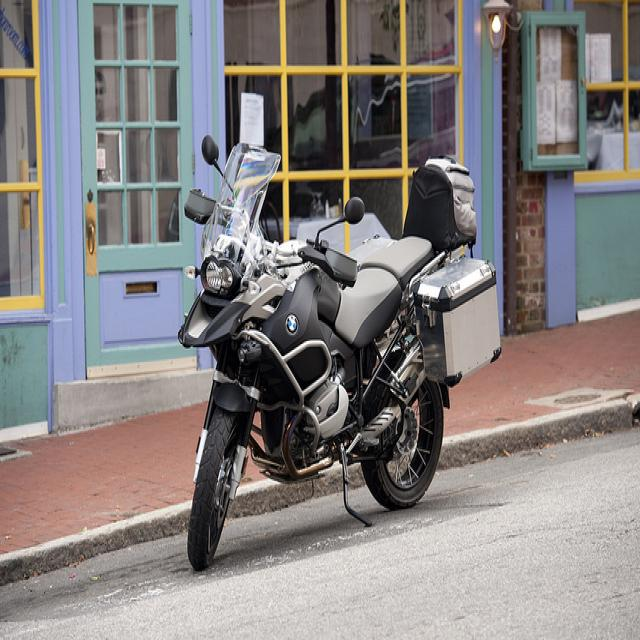motor: (182, 127, 506, 575)
